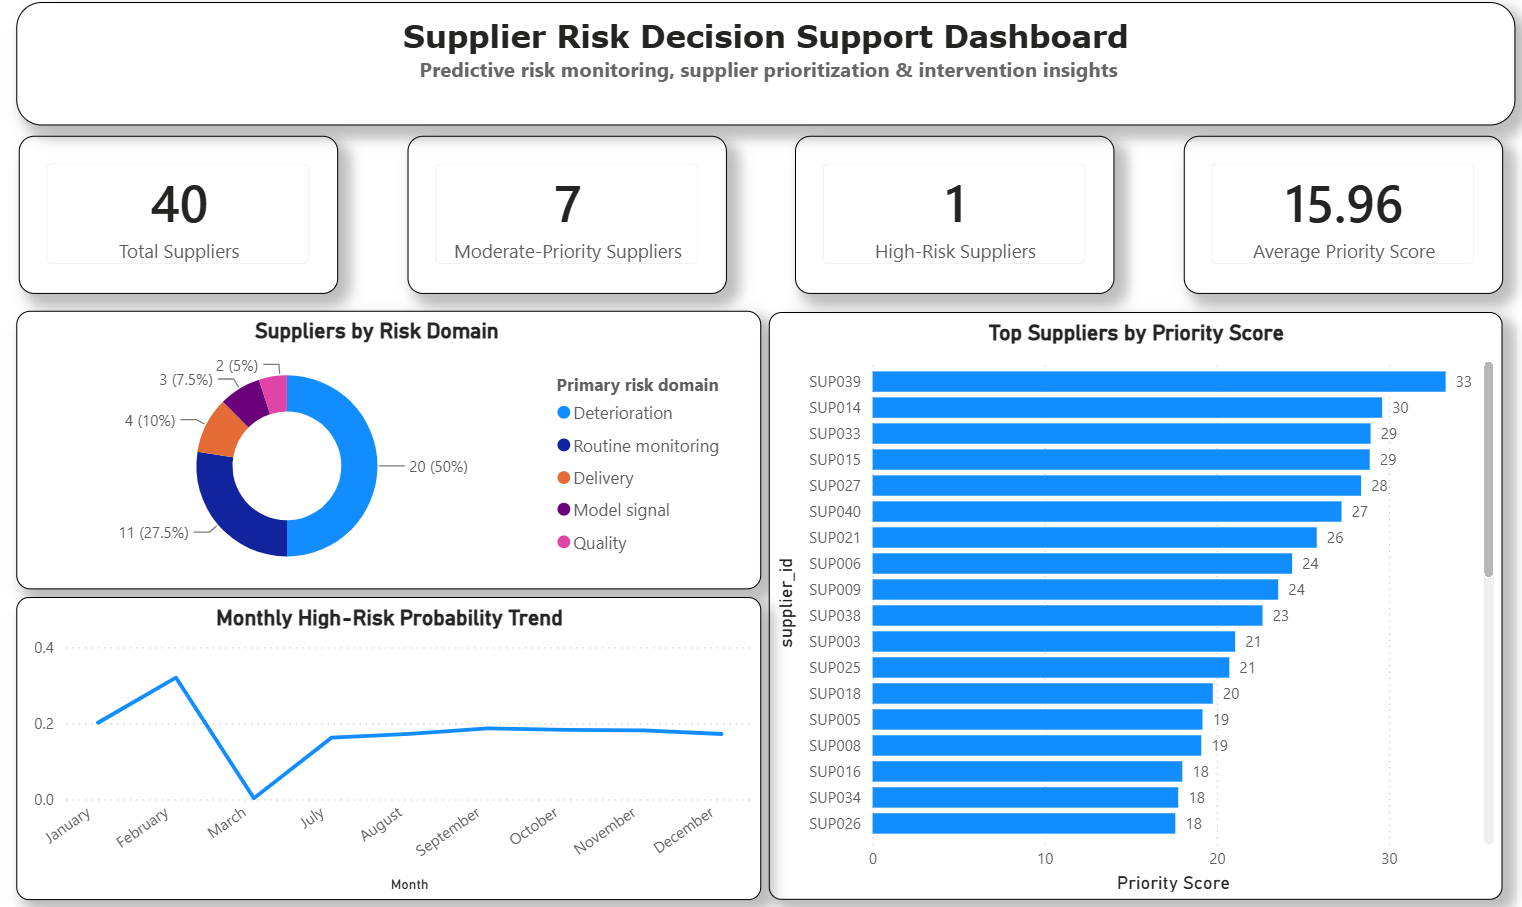

Layout of this report page (visuals, bound fields, positions):
{"tool":"powerbi","page":{"name":"Executive_Overview","canvas":[1280,720],"ordinal":0},"visuals":[{"type":"group","id":"g1","title":"Group 1","box":[57.7,112.6,1163.5,123.6],"z":0},{"type":"cardVisual","fields":{"Data":["Sum(priority_band_summary.supplier_count)"]},"box":[362.2,112.6,250,123.6],"z":0,"group":"g1"},{"type":"cardVisual","fields":{"Data":["Sum(intervention_summary.supplier_count)"]},"box":[57.7,112.6,250,123.6],"z":1000,"group":"g1"},{"type":"donutChart","title":"Suppliers by Risk Domain","fields":{"Category":["risk_domain_summary.primary_risk_domain"],"Y":["Sum(risk_domain_summary.supplier_count)"]},"box":[55.8,250,583.7,218.6],"z":1000},{"type":"cardVisual","fields":{"Data":["Avg(priority_supplier_table.priority_score)"]},"box":[971.2,112.6,250,123.6],"z":2000,"group":"g1"},{"type":"clusteredBarChart","title":"Top Suppliers by Priority Score","fields":{"Category":["priority_supplier_table.supplier_id"],"Y":["Sum(priority_supplier_table.priority_score)"]},"box":[645.8,250.5,574.9,461],"z":2000},{"type":"cardVisual","fields":{"Data":["Count(supplier_dashboard.supplier_id)"]},"box":[666.7,112.6,250,123.6],"z":3000,"group":"g1"},{"type":"lineChart","title":"Monthly High-Risk Probability Trend","fields":{"Y":["Avg(supplier_risk_trend.probability_high)"],"Category":["supplier_risk_trend.period.Variation.Date Hierarchy.Month"]},"box":[55.8,474.4,583.7,237.2],"z":3000},{"type":"textbox","box":[55.8,8.1,1175.6,96.5],"z":4000}]}

Visuals, with their boxes on the page's 1280x720 design canvas (x1, y1, x2, y2). These are canvas units, not pixel positions in the 1522x907 screenshot, which may show the page scaled, cropped or inside an application window:
"Group 1" group: (left=58, top=113, right=1221, bottom=236)
cardVisual - Sum(priority_band_summary.supplier_count): (left=362, top=113, right=612, bottom=236)
cardVisual - Sum(intervention_summary.supplier_count): (left=58, top=113, right=308, bottom=236)
"Suppliers by Risk Domain" donutChart: (left=56, top=250, right=640, bottom=469)
cardVisual - Avg(priority_supplier_table.priority_score): (left=971, top=113, right=1221, bottom=236)
"Top Suppliers by Priority Score" clusteredBarChart: (left=646, top=250, right=1221, bottom=712)
cardVisual - Count(supplier_dashboard.supplier_id): (left=667, top=113, right=917, bottom=236)
"Monthly High-Risk Probability Trend" lineChart: (left=56, top=474, right=640, bottom=712)
textbox: (left=56, top=8, right=1231, bottom=105)
